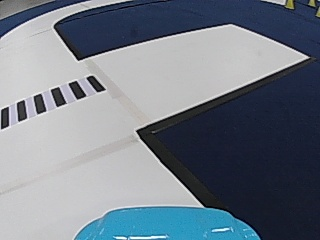CrossWalk: (3, 75, 103, 126)
